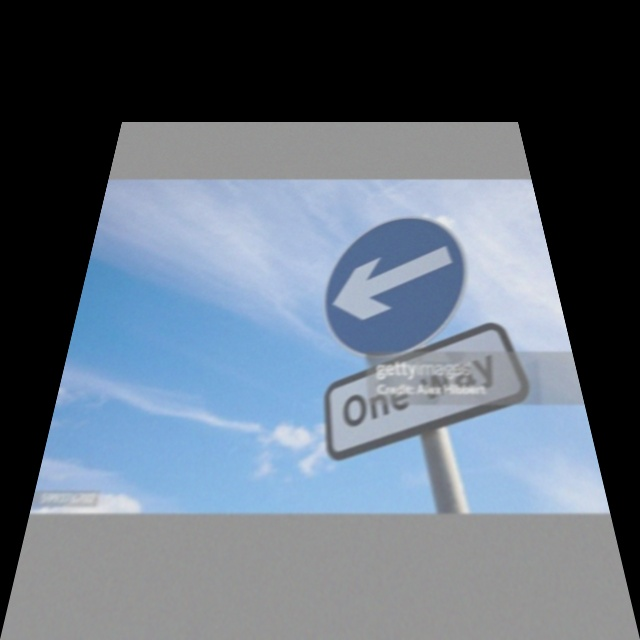Compulsory_Turn_Left: (316, 214, 478, 353)
